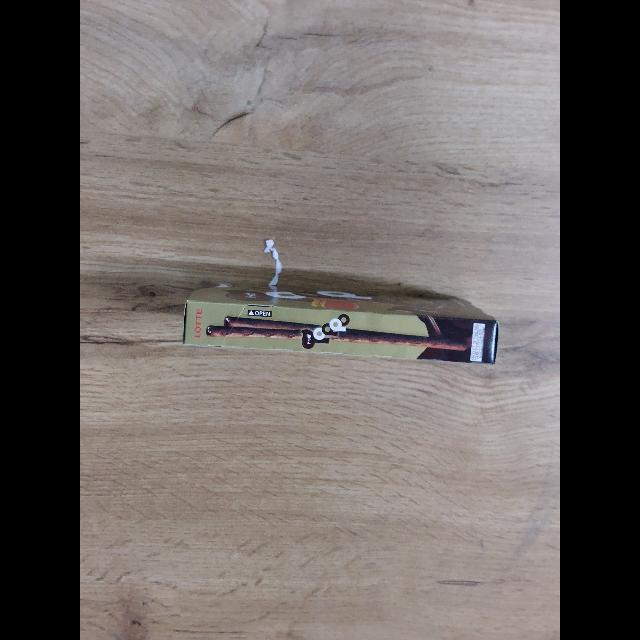banh_toppo_socola: (183, 280, 499, 365)
